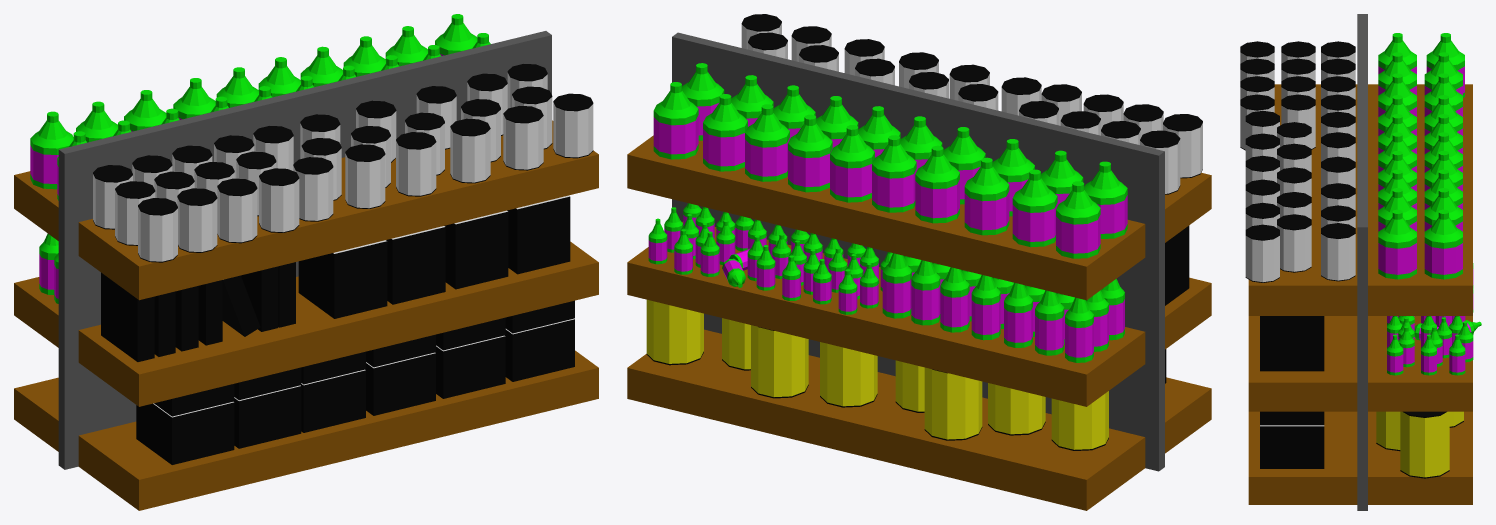
File: Store shelf.fbx
3 views of the same model, side by side, from view 1: azimuth 30°, elevation 25°; view 2: azimuth 150°, elevation 25°; view 3: azimuth 270°, elevation 25° (orthographic). The views are drawn at different scales.
Visible parts, largest first — view 1: Store_shelf; view 2: Store_shelf; view 3: Store_shelf.
Part boxes in pixels (x1=…): Store_shelf: x1=14, y1=14, x2=598, y2=510; Store_shelf: x1=627, y1=14, x2=1211, y2=510; Store_shelf: x1=1240, y1=14, x2=1481, y2=510.
Size of the model in its own units: 64.21 by 39.8 by 30.7.
